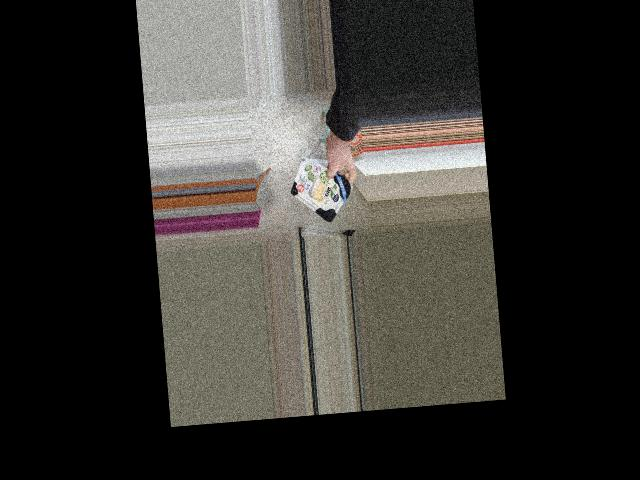cheese: (282, 158, 356, 224)
